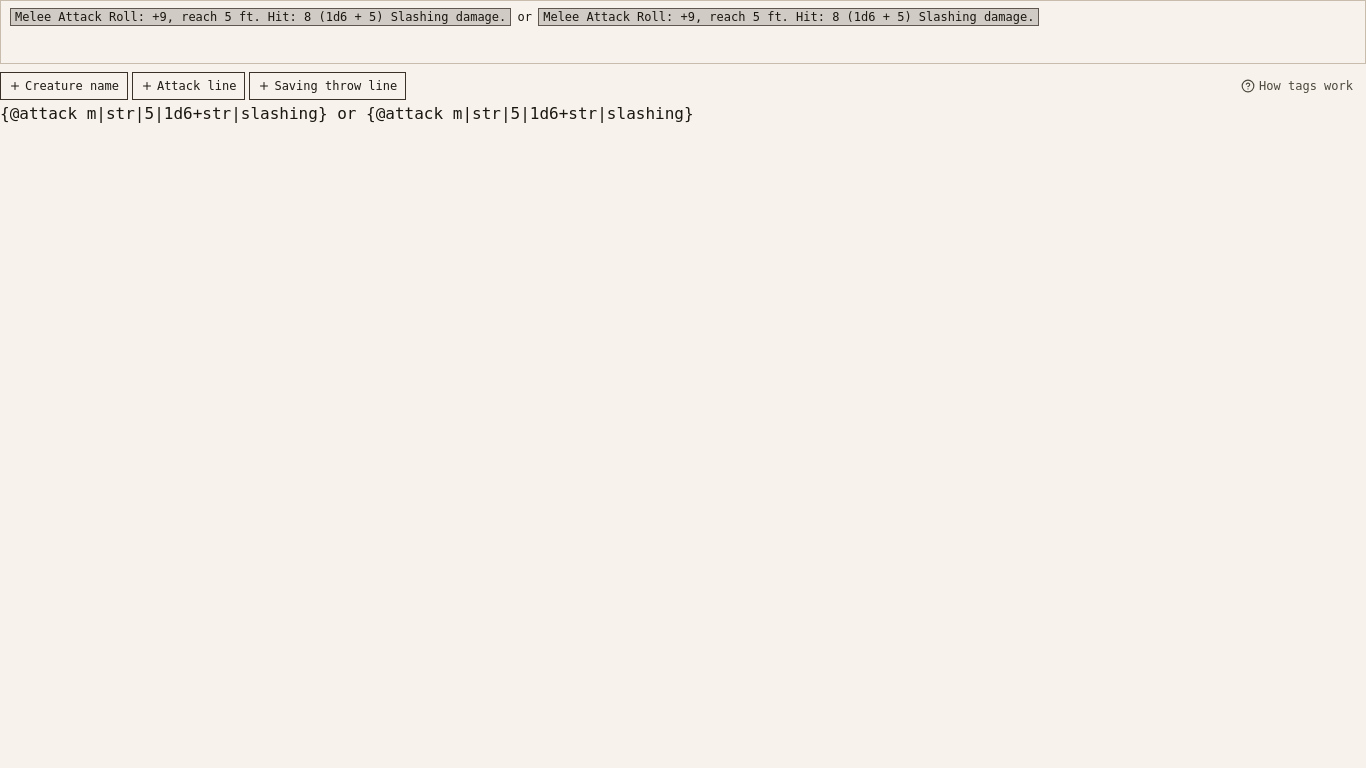
Test case: MarkupField (CodeMirror) › splices the edited token only, even among identical tags
Press the mouse on the 2nd text with class "mb-chip" at (789, 17), box [539,9,1038,25]
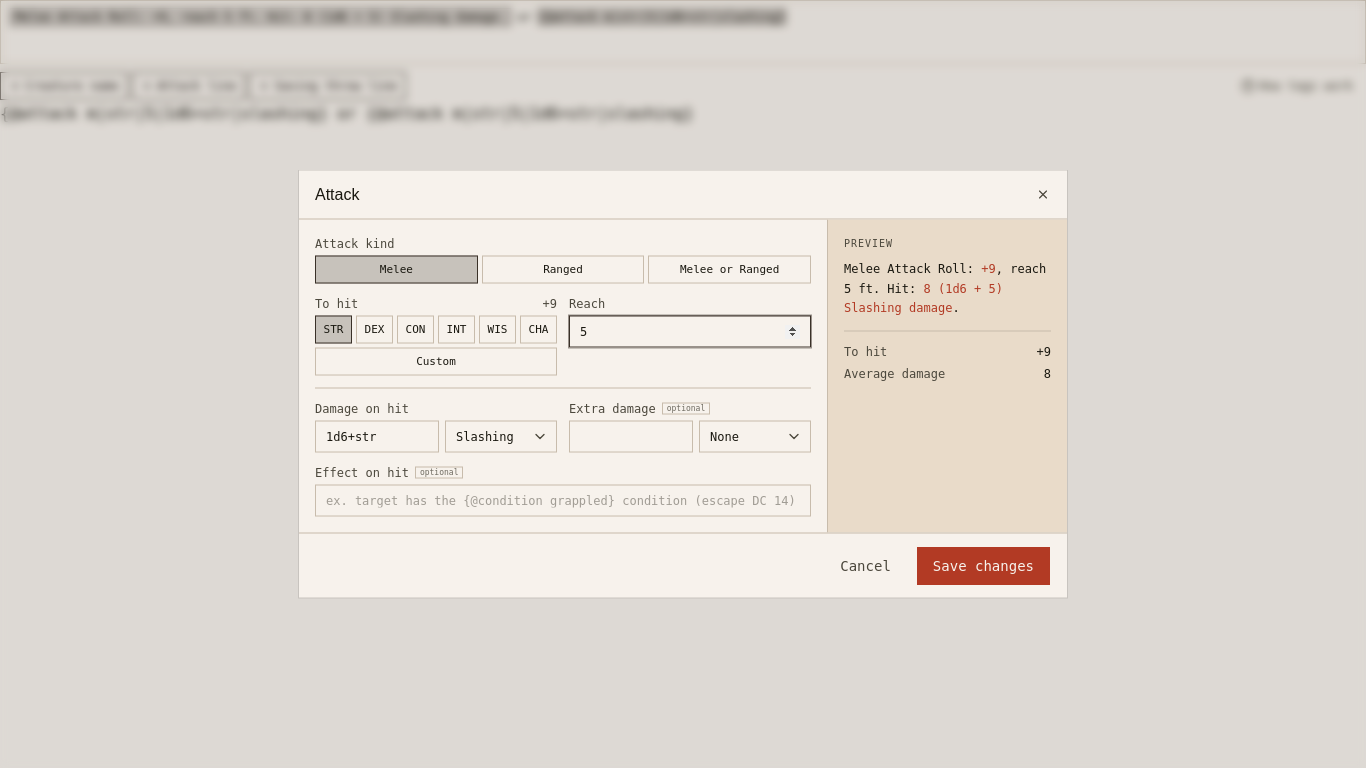
Replace the text in the field named "Damage dice" with "3d10" at (377, 436), box [315,420,439,452]
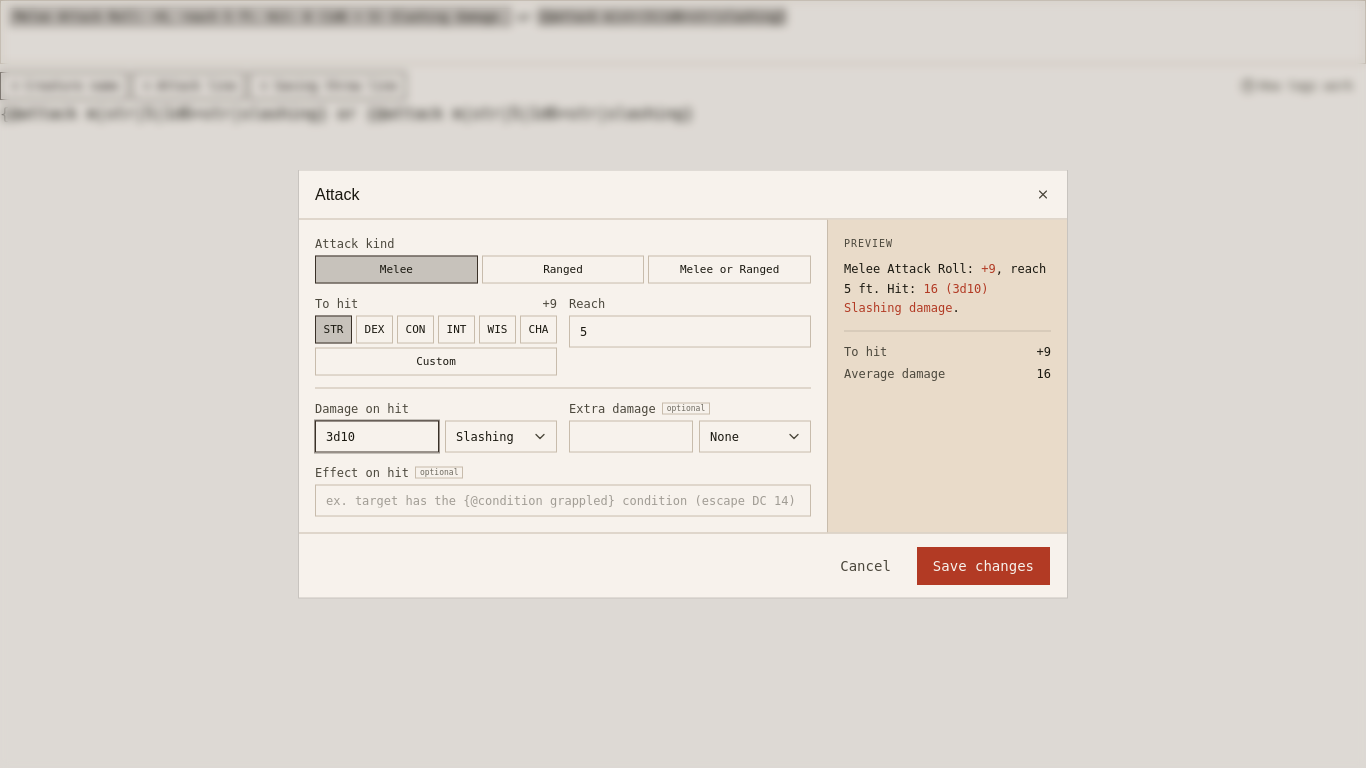
Click the button "Save changes".
click(983, 566)  # box [916,546,1051,586]
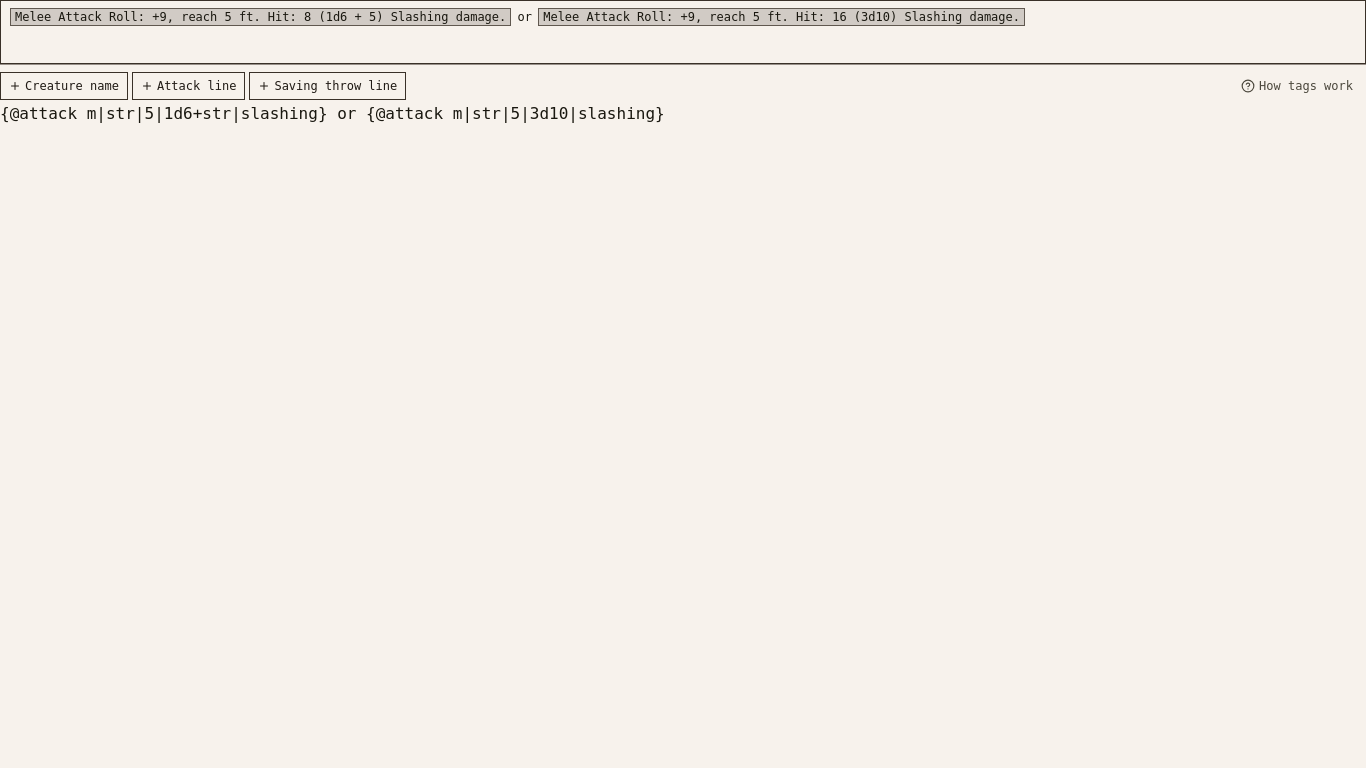
Check: the text with test id "value" reads "{@attack m|str|5|1d6+str|slashing} or {@attack m|str|5|3d10|slashing}", box [0,104,665,123]
